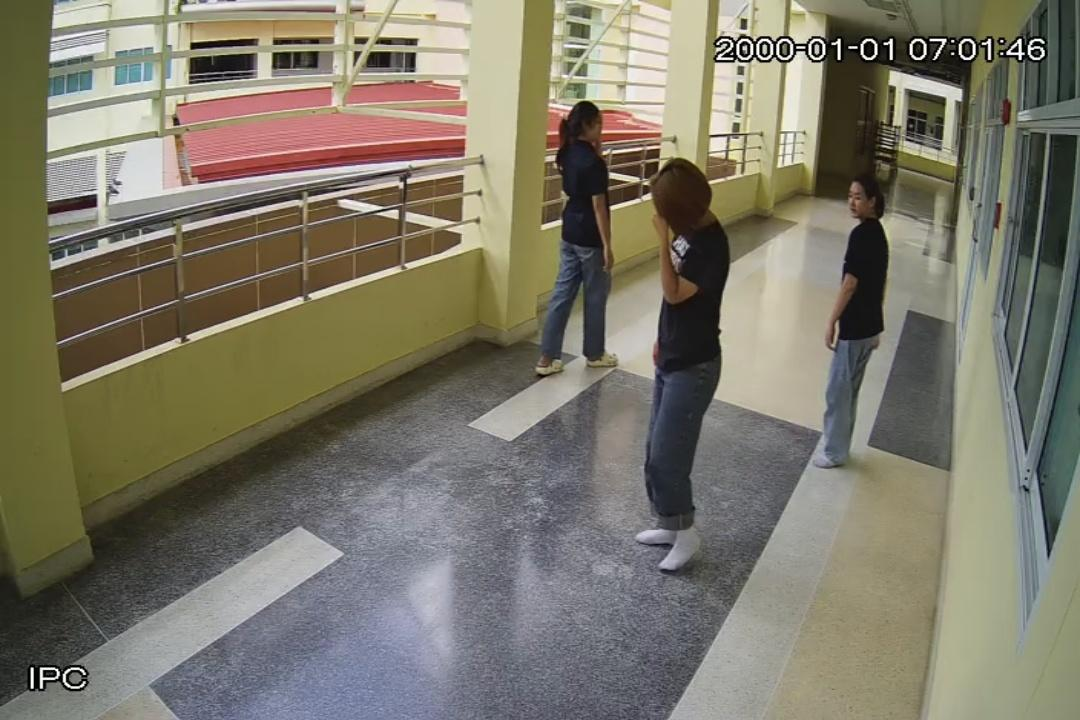normal: (636, 158, 736, 571), (811, 177, 897, 470), (535, 101, 622, 378)
